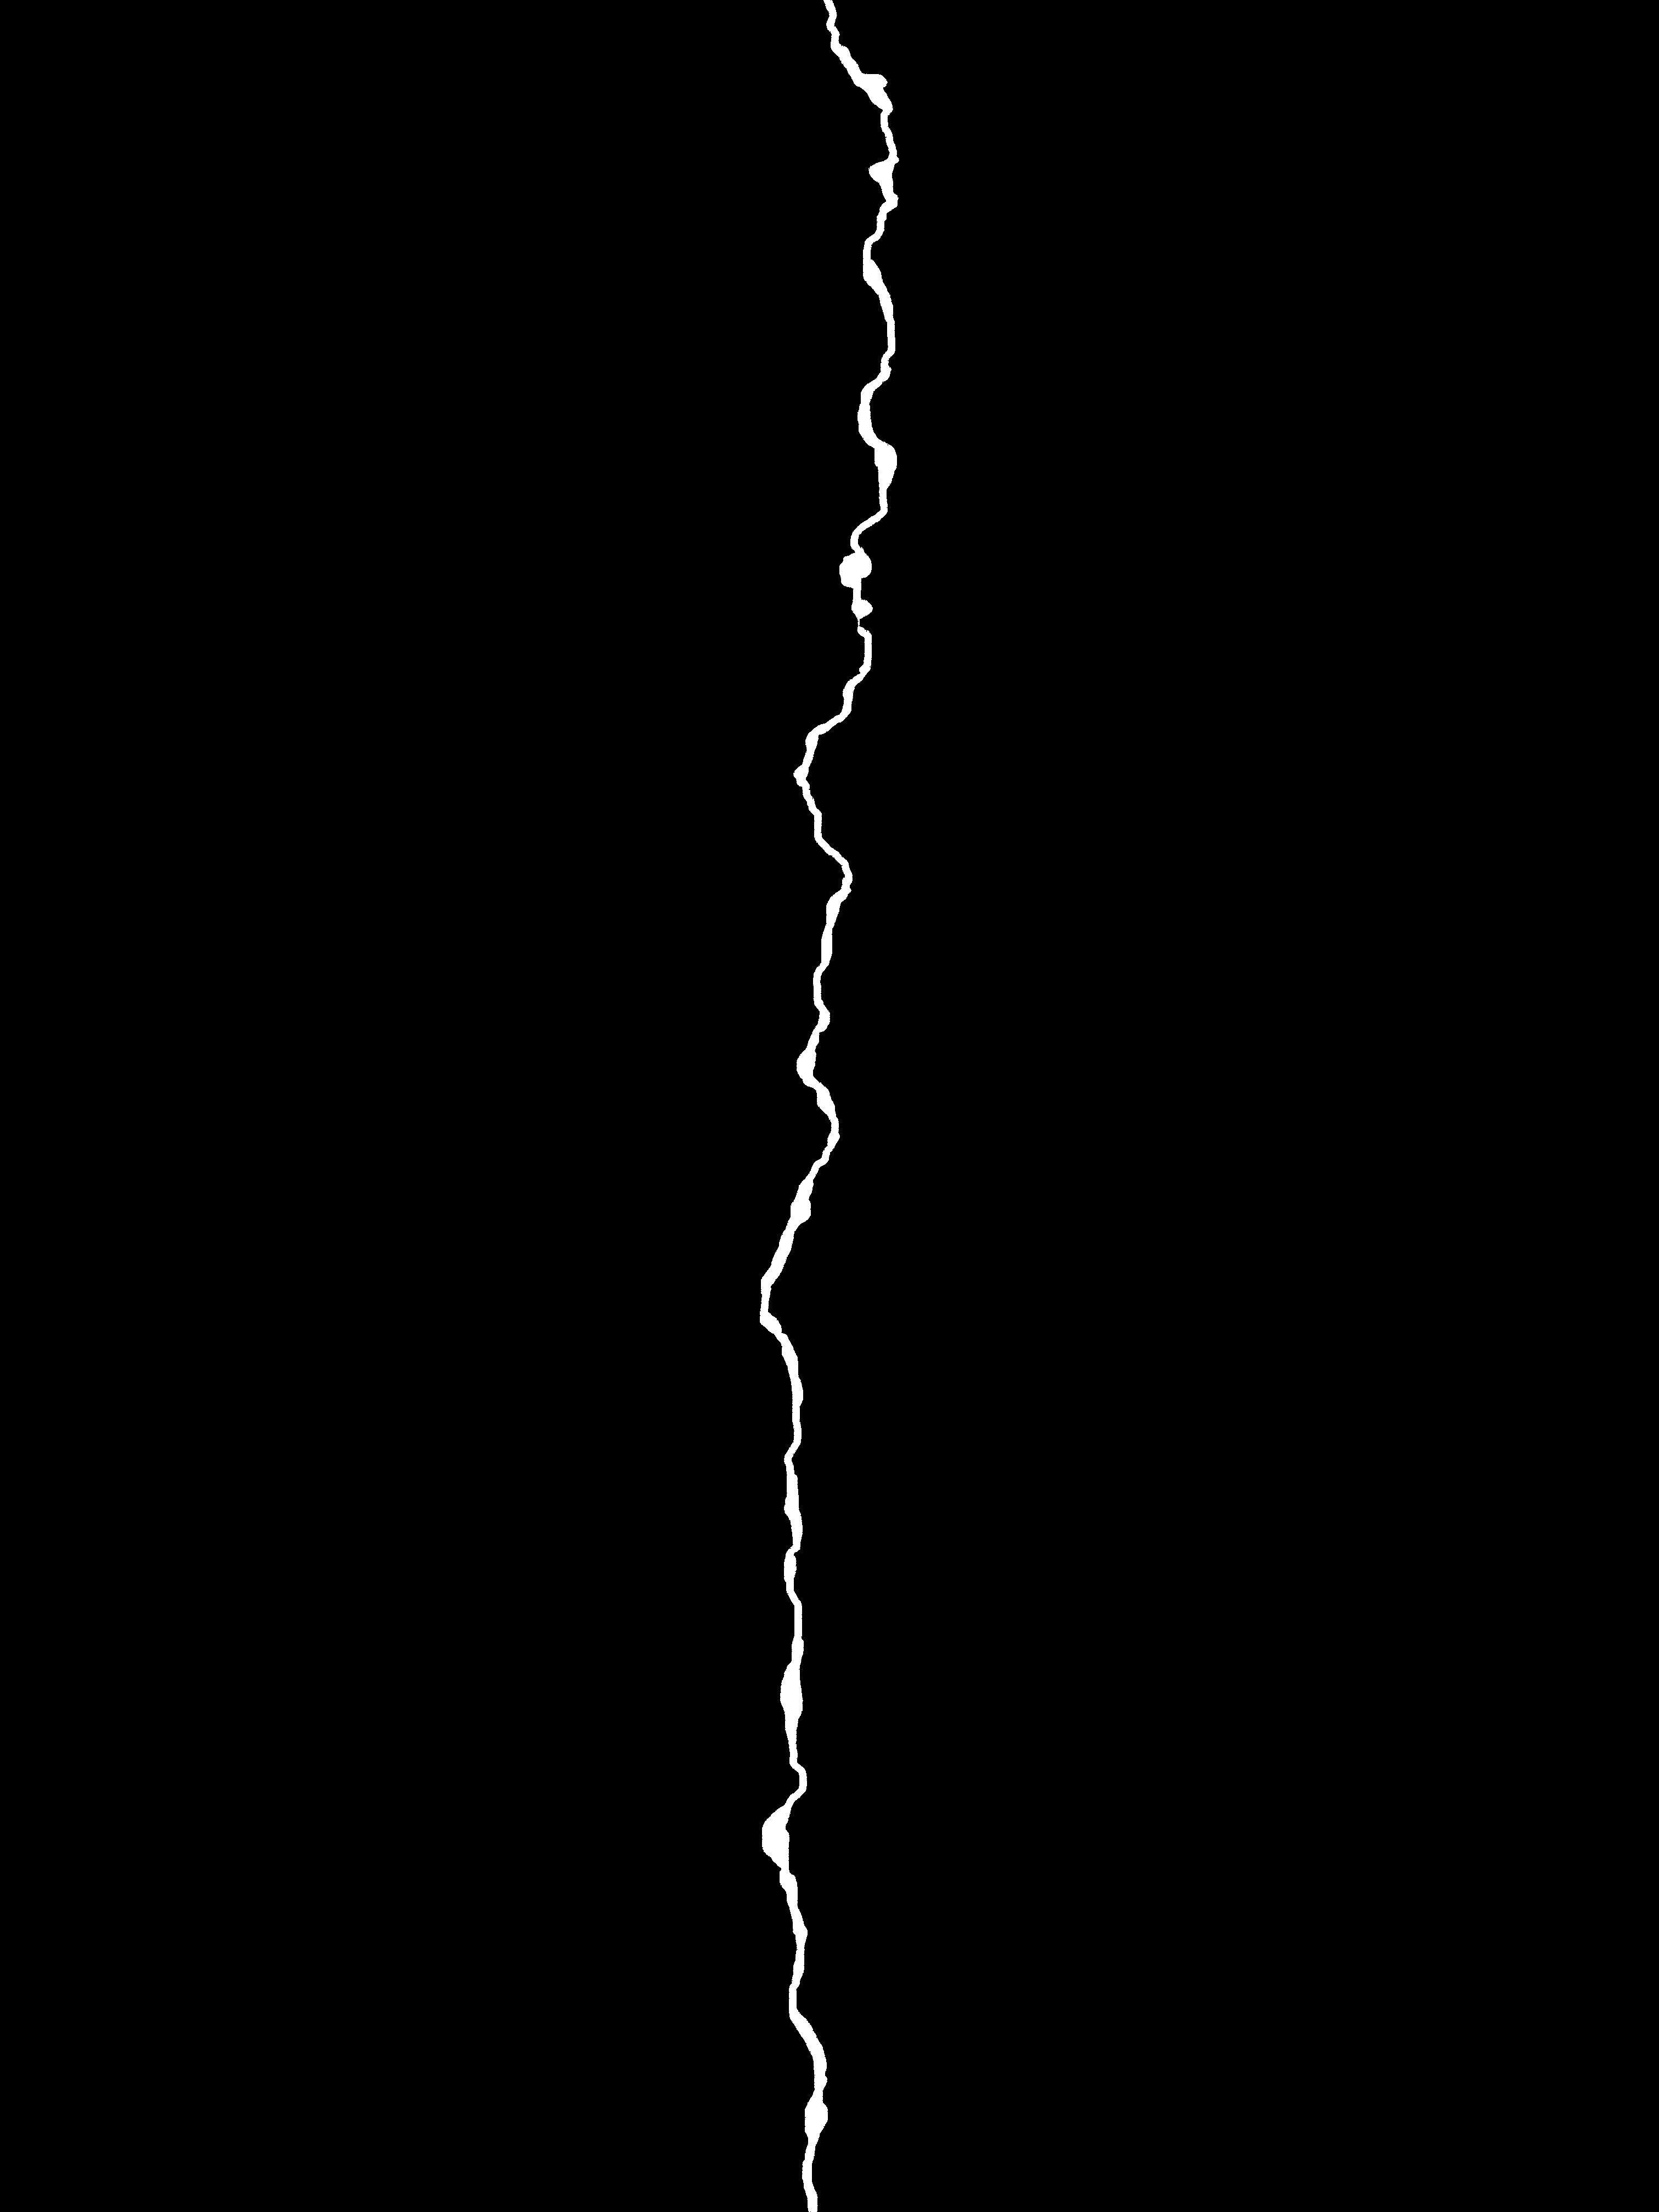Crack: (728, 0, 934, 2212)
